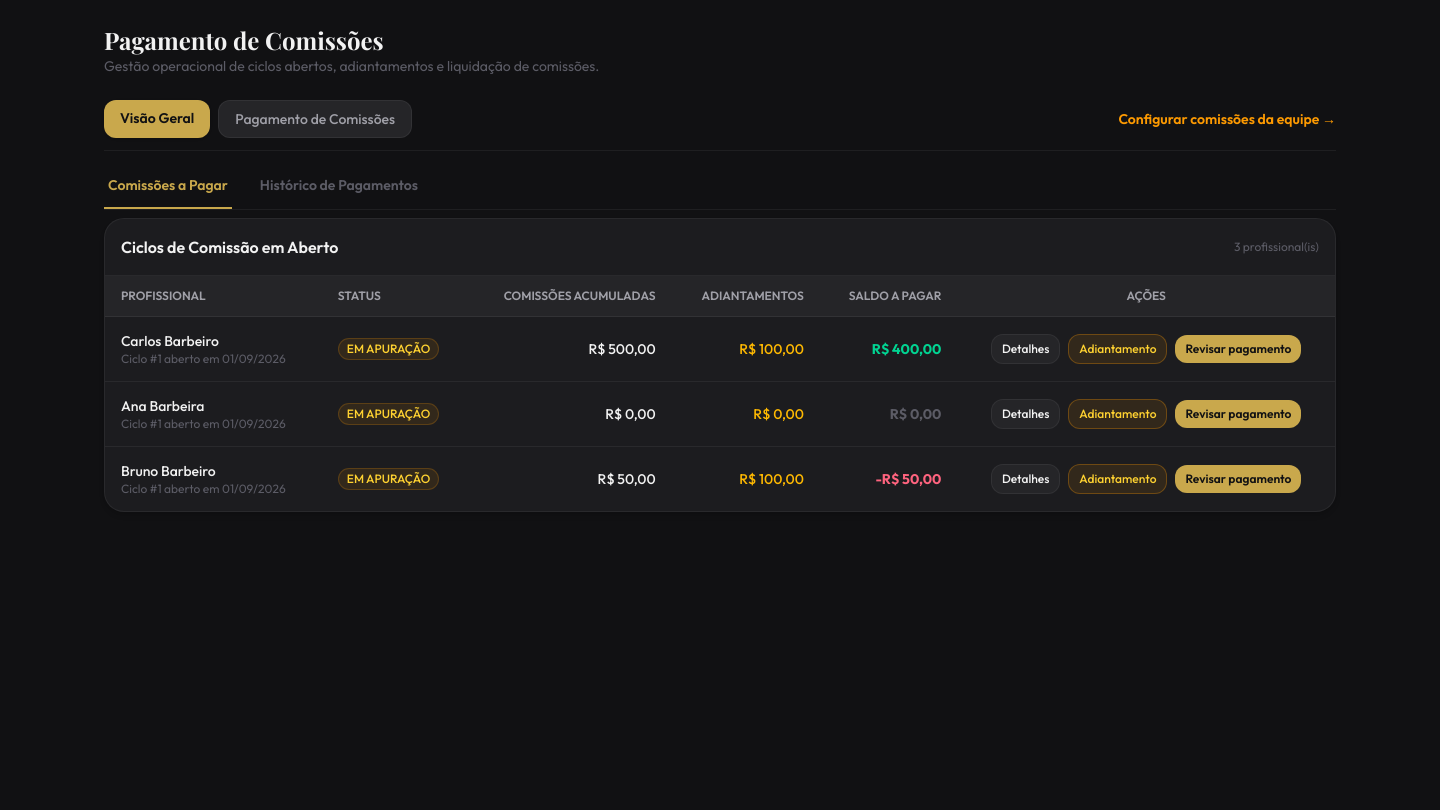
Scenario: TEM BARBER — C9 Admin Commission UX Suite › 11. advance modal displays available maximum
The image size is (1440, 810).
Expected: the text "Carlos Barbeiro" is shown, 121,332 -> 219,350
Click the button "Adiantamento" in the row of "Carlos Barbeiro".
click(1118, 349)  # box 1068,334 -> 1167,364
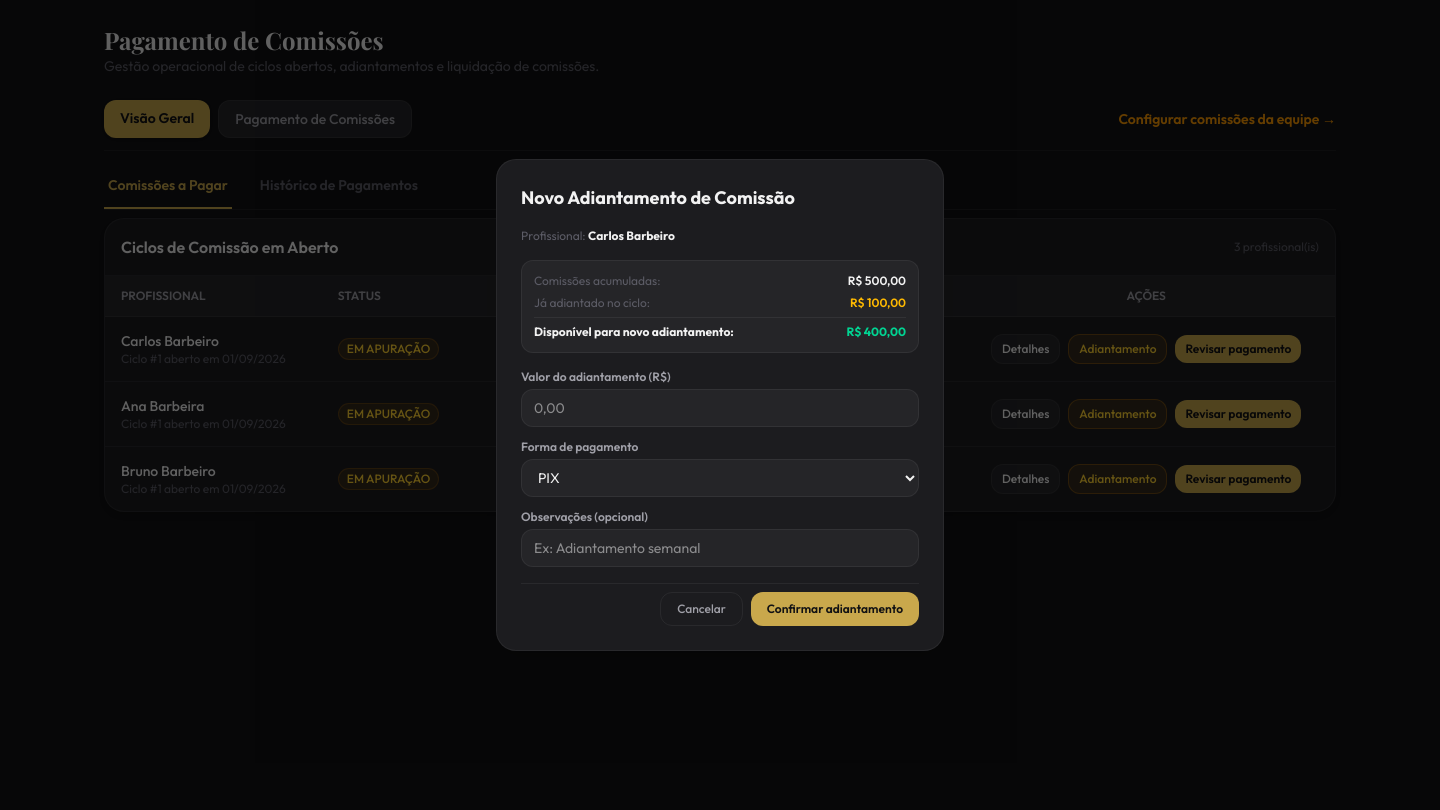
Now the heading "Novo Adiantamento de Comissão" is shown, box 521,186 -> 795,209
Now the text "Disponível para novo adiantamento:" is shown, box 534,324 -> 734,340
